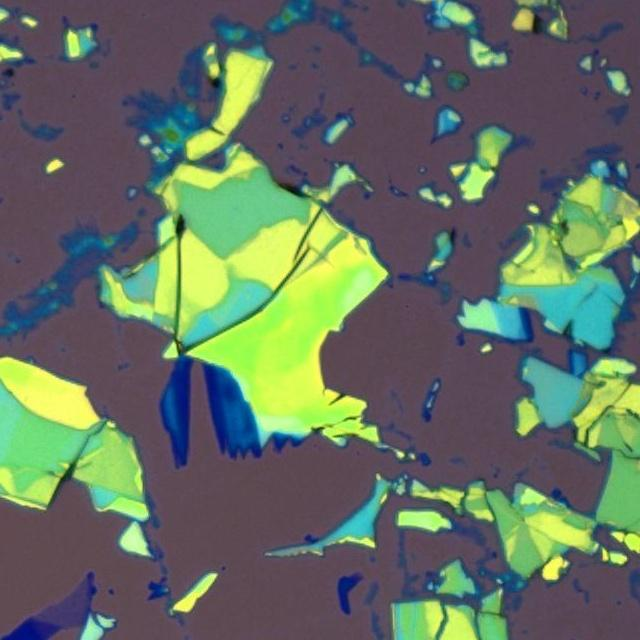monolayer-eWW4: (34, 575, 88, 627)
